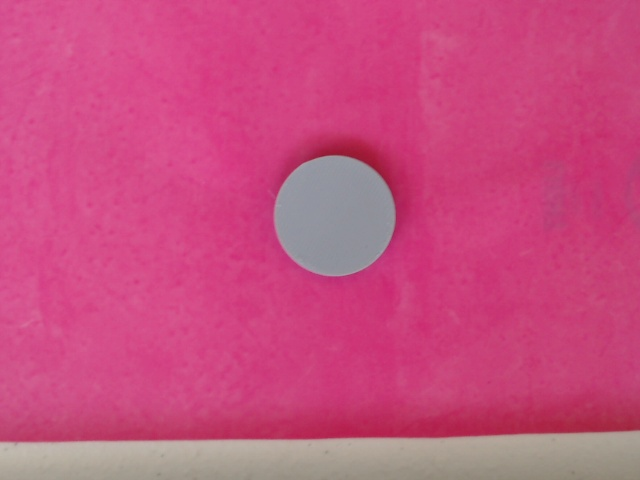NonDefective: (272, 152, 405, 281)
